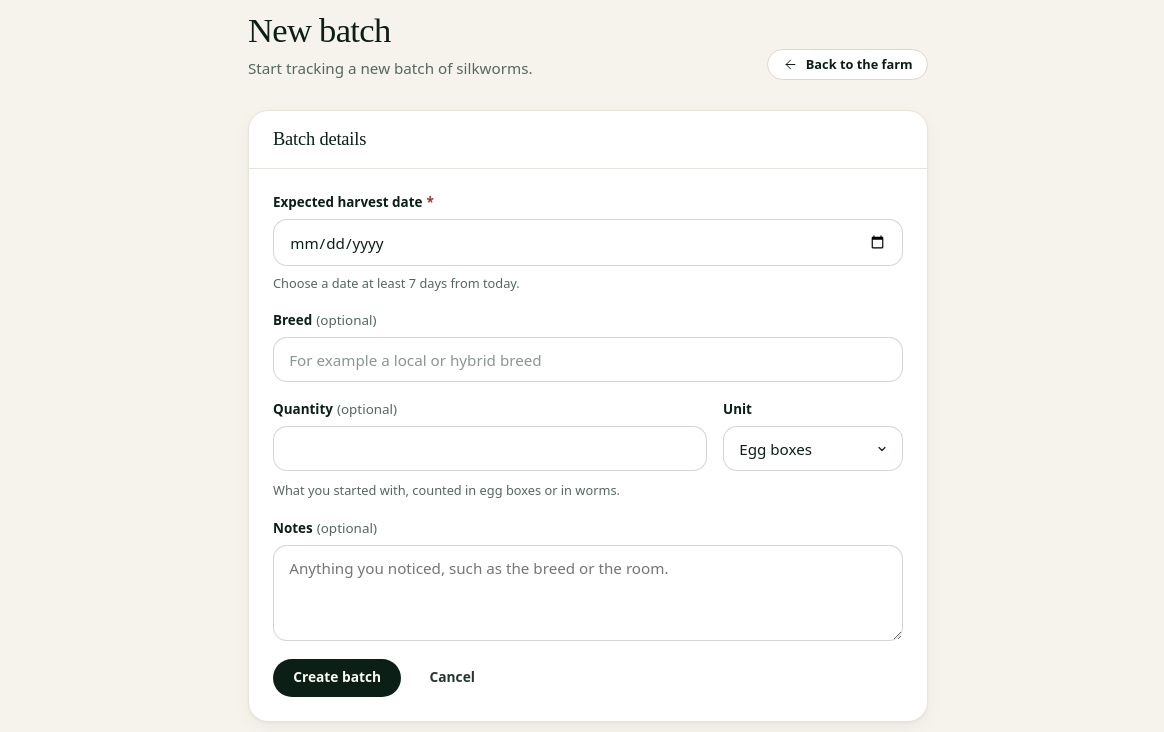
it: New batch page › creates the batch and returns to the farm
Type "2030-01-15" into the date field labelled "Expected harvest date *".
click(588, 242); type("2030-01-15")  # box [273,219,903,266]
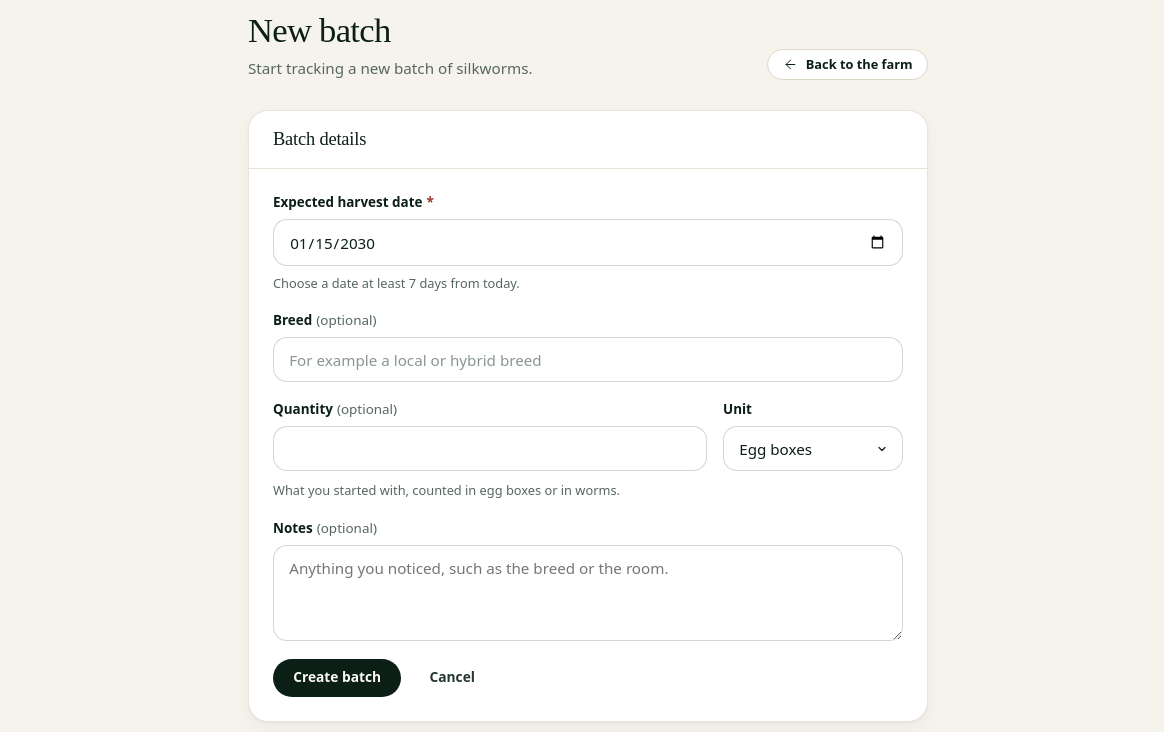
Type "Healthy eggs" into the text box labelled "Notes (optional)".
click(588, 592); type("Healthy eggs")  # box [273,544,903,640]
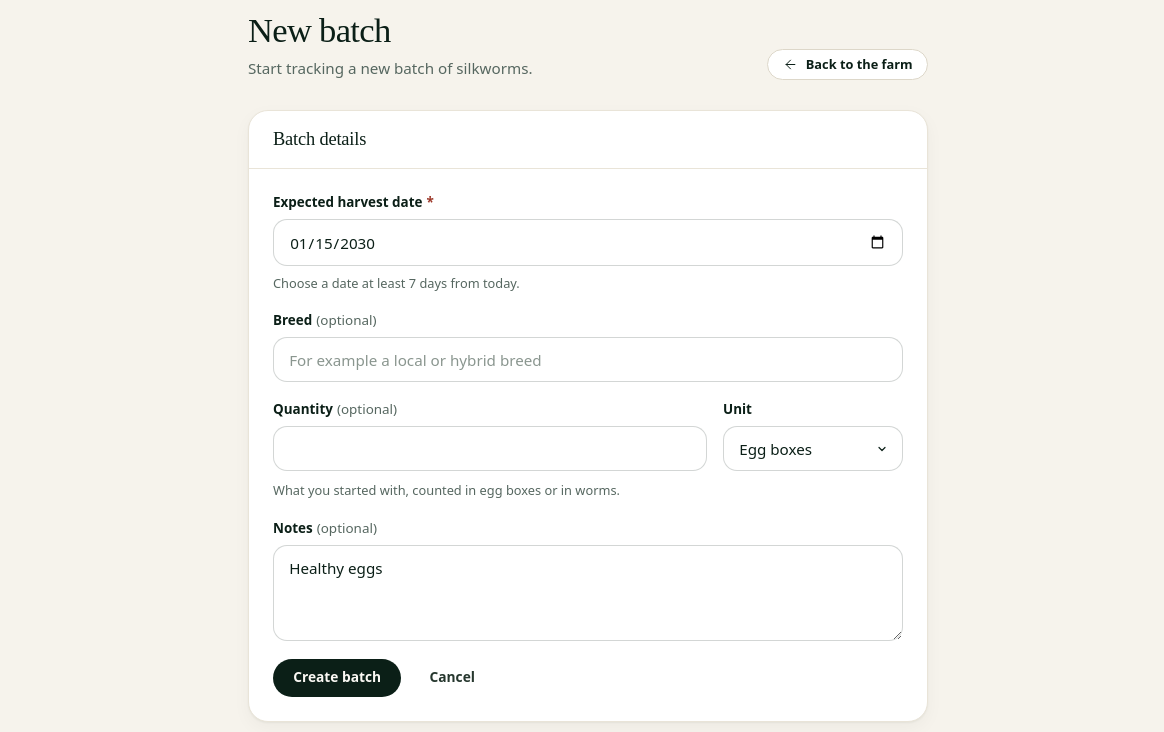
Click the button "Create batch".
click(337, 678)  # box [273,658,401,697]
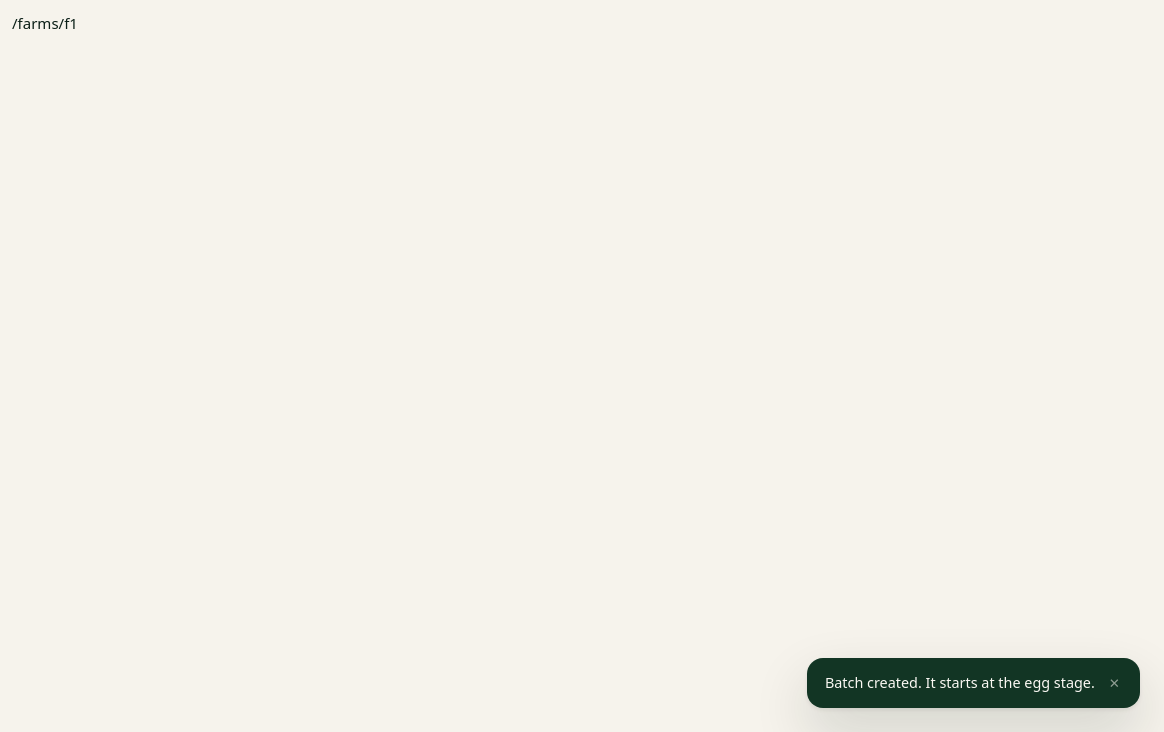
Expected: the text with test id "where" reads "/farms/f1", [12,13,78,33]
